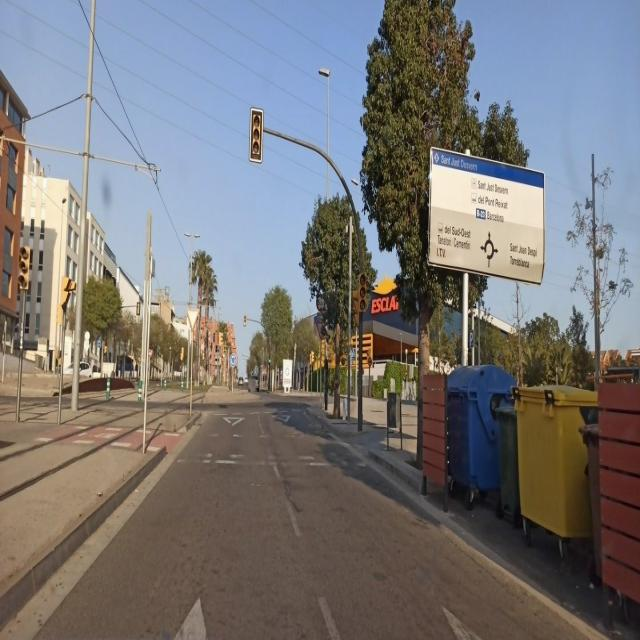car: (248, 374, 259, 392), (238, 377, 244, 388)
